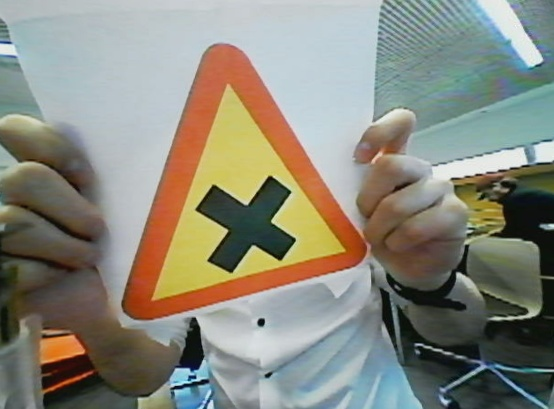junction: (113, 41, 373, 335)
